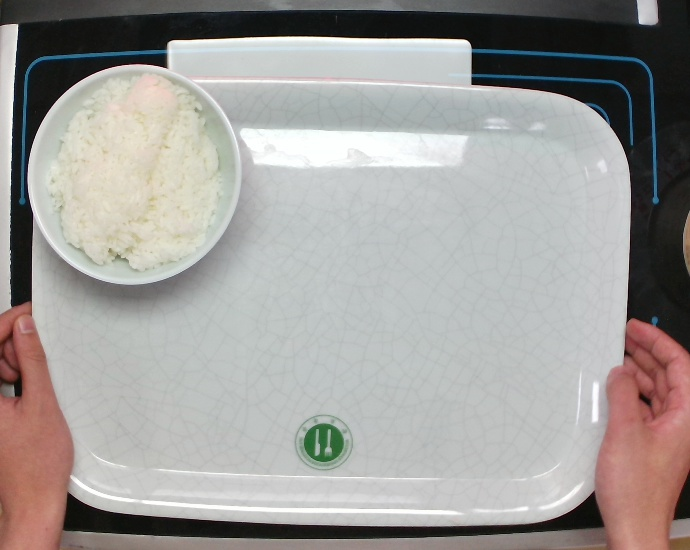JYsf-Fan_Wan: (25, 62, 244, 288)
